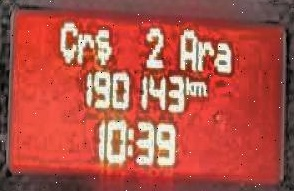0: (106, 116, 125, 163), (111, 69, 127, 108)
1: (97, 118, 105, 168), (83, 68, 93, 108), (139, 70, 148, 110)
2: (144, 23, 164, 68)
3: (135, 119, 152, 163), (166, 73, 182, 113)
4: (147, 71, 165, 110)
9: (155, 120, 175, 165), (92, 68, 110, 106)
X: (59, 18, 76, 63), (94, 26, 113, 65), (179, 26, 195, 68), (214, 38, 231, 71), (196, 40, 213, 70), (76, 30, 92, 61), (191, 78, 207, 96), (126, 124, 133, 158), (184, 75, 193, 95)
